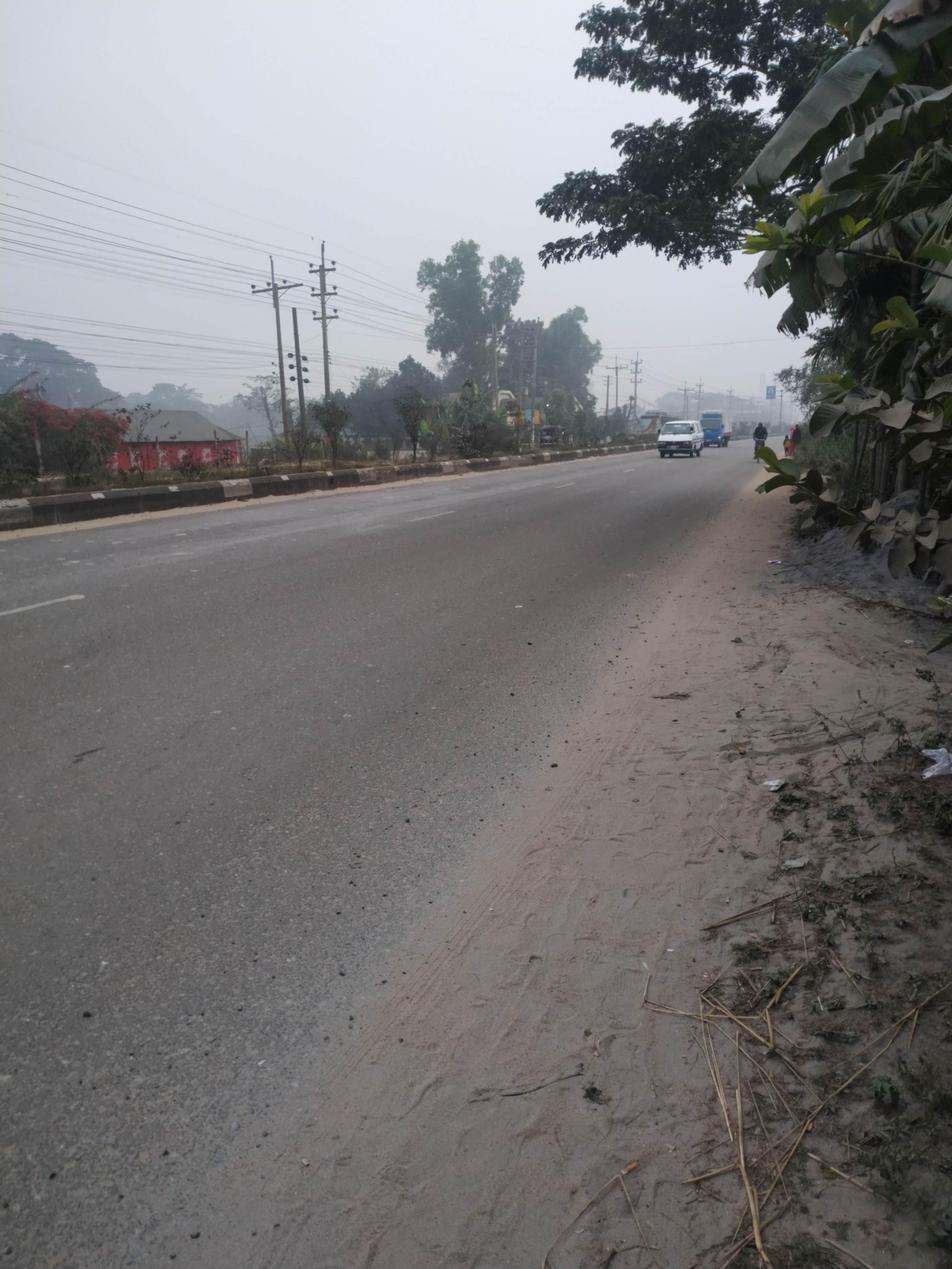Car: (641, 403, 709, 474)
